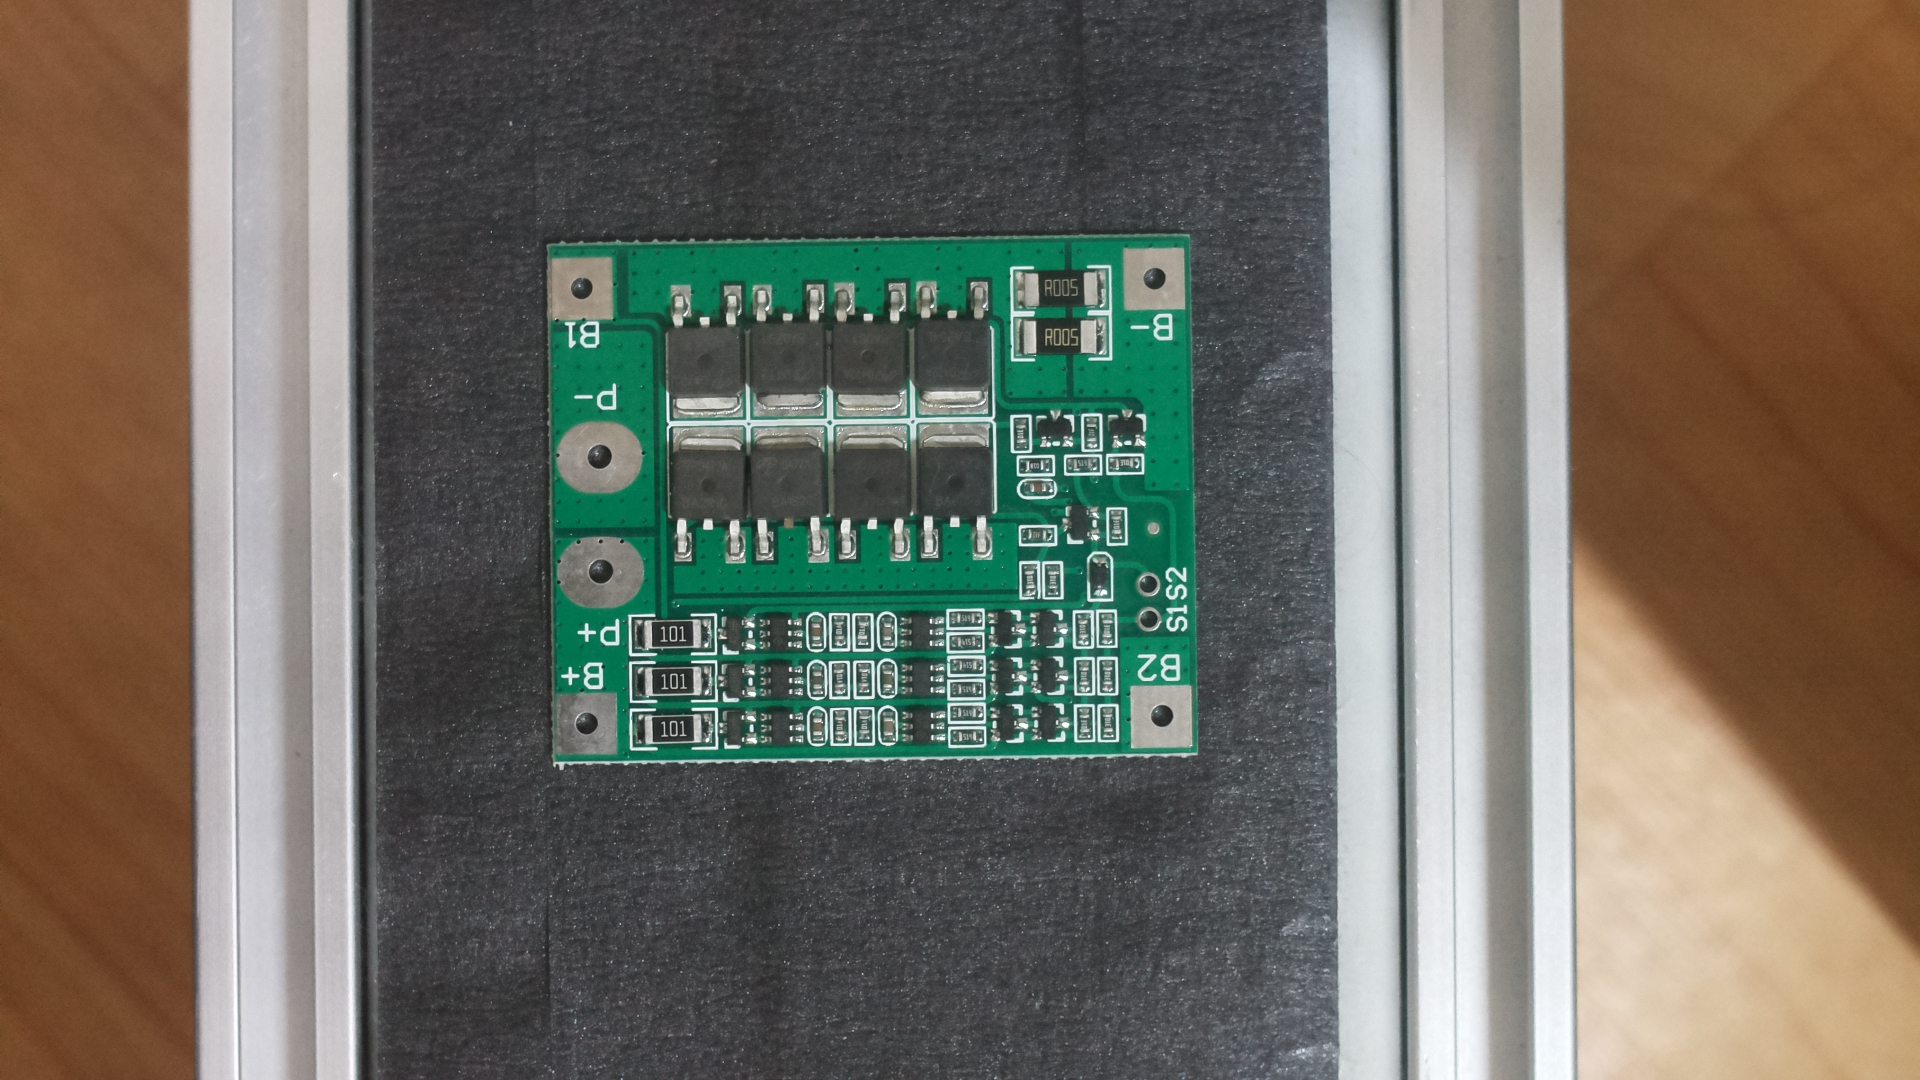C_Normal: (530, 225, 1220, 818)
